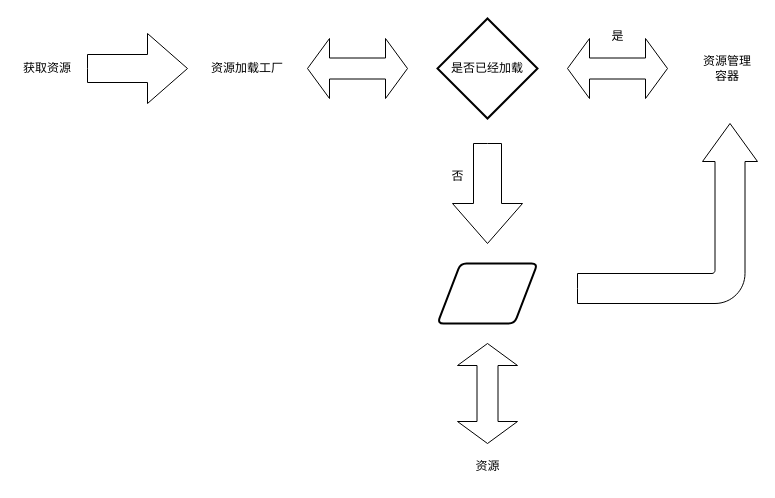
Some shapes in this 775 by 498 pixel diagram are drawn without their labels. Each missing label, with the centre of its shape:
"加载资源" goes at [487,293].
"放入资源管理器" goes at [667,213].
